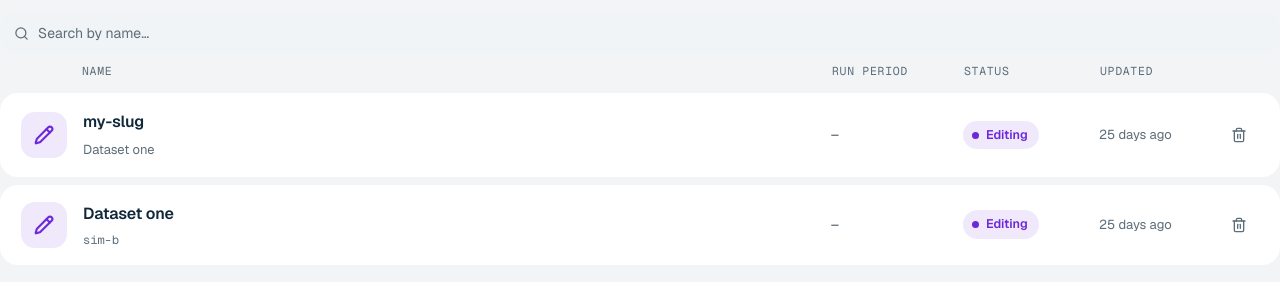
Test case: the snapshot draft list › names an unnamed job by its slug first, and finds it by its run id too
The image size is (1280, 282).
Expected: the link "my-slug" is shown, [83, 110, 144, 134]
Expected: the link "Dataset one" is shown, [83, 202, 174, 226]
Type "sim-b" into the search field at (652, 33), box [38, 12, 1266, 54]
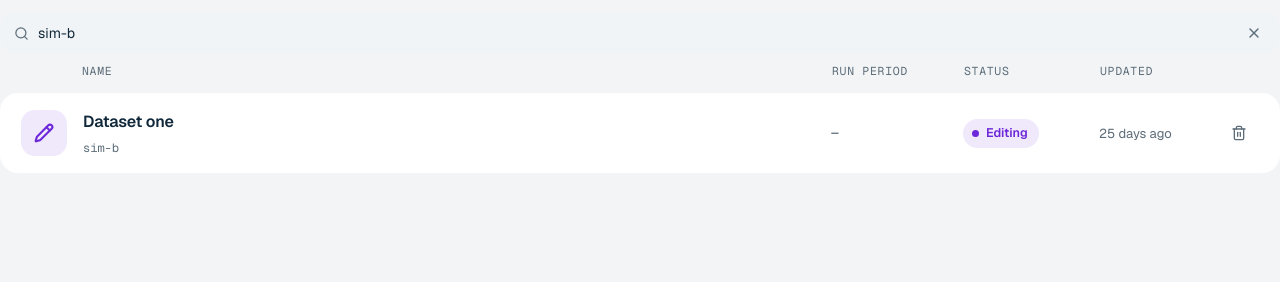
Result: the number of list items is 1 at [0, 93, 1279, 173]
